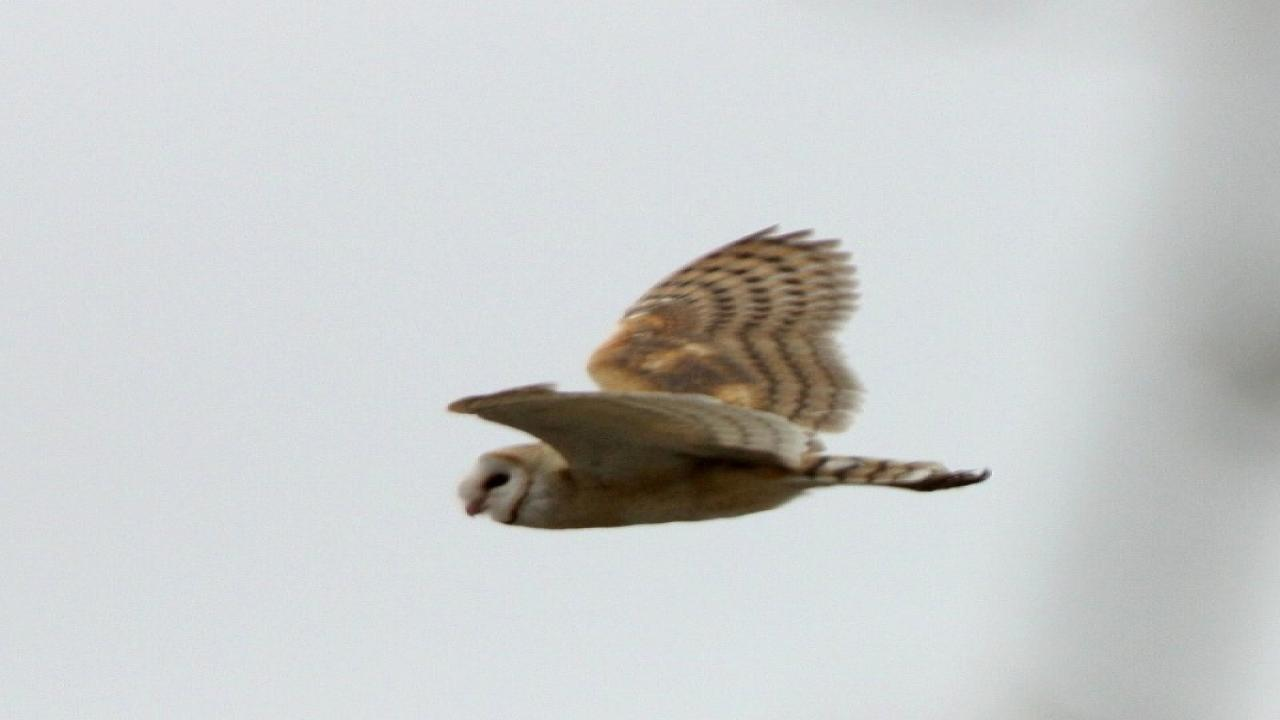Bird: (434, 220, 1013, 540)
